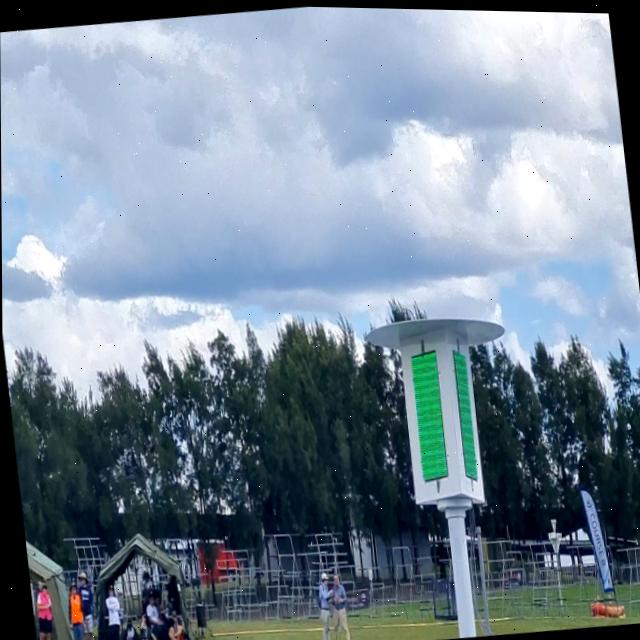led: (402, 342, 452, 487)
